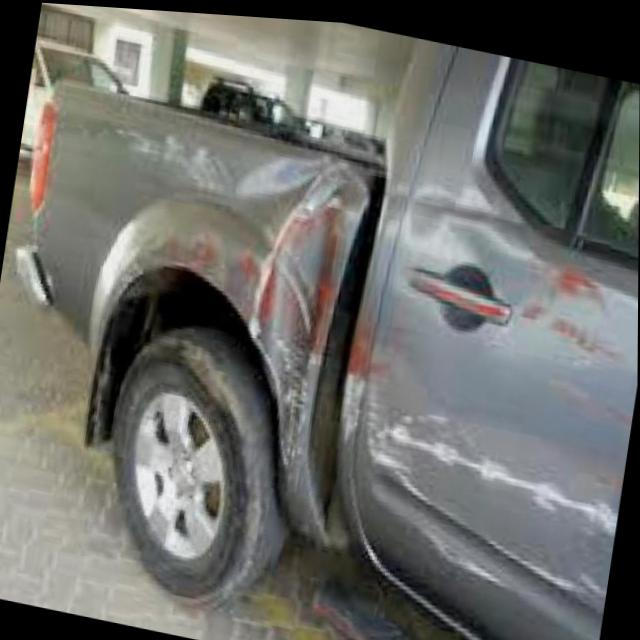Car-Damage: (233, 167, 364, 470), (401, 171, 560, 322)
